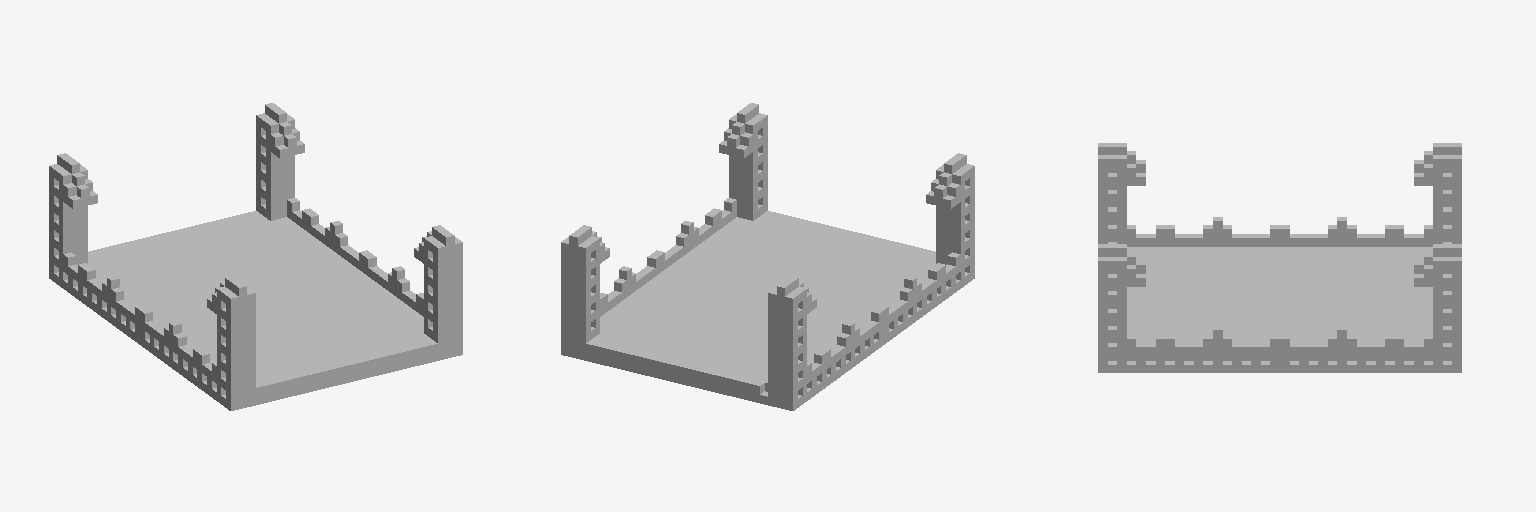
File: bridge.obj
The picture shows the model from 3 angles: view 1: azimuth 30°, elevation 25°; view 2: azimuth 150°, elevation 25°; view 3: azimuth 270°, elevation 25°; orthographic projection.
Parts seen in each view (by area): view 1: object 1; view 2: object 1; view 3: object 1.
Part boxes in pixels (left/top/right/bottom): object 1: left=49, top=103, right=462, bottom=410; object 1: left=561, top=103, right=974, bottom=410; object 1: left=1098, top=143, right=1461, bottom=372.
Size of the model in its own units: 2.8 by 1.4 by 3.8.